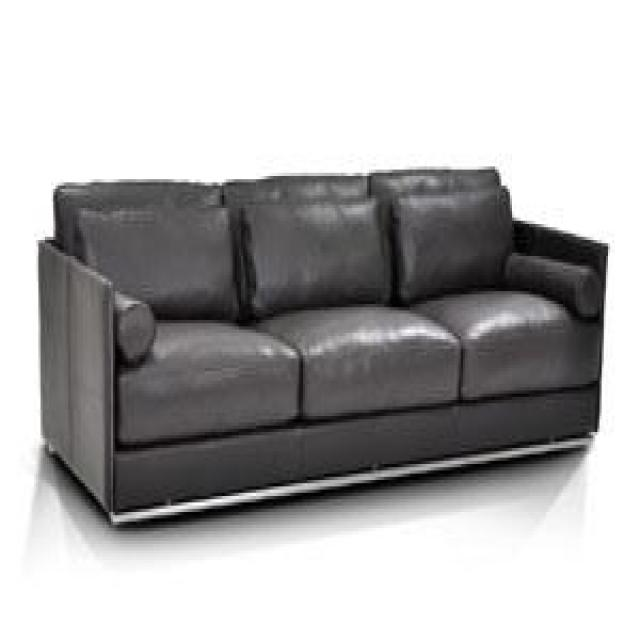sofa: (38, 161, 610, 534)
